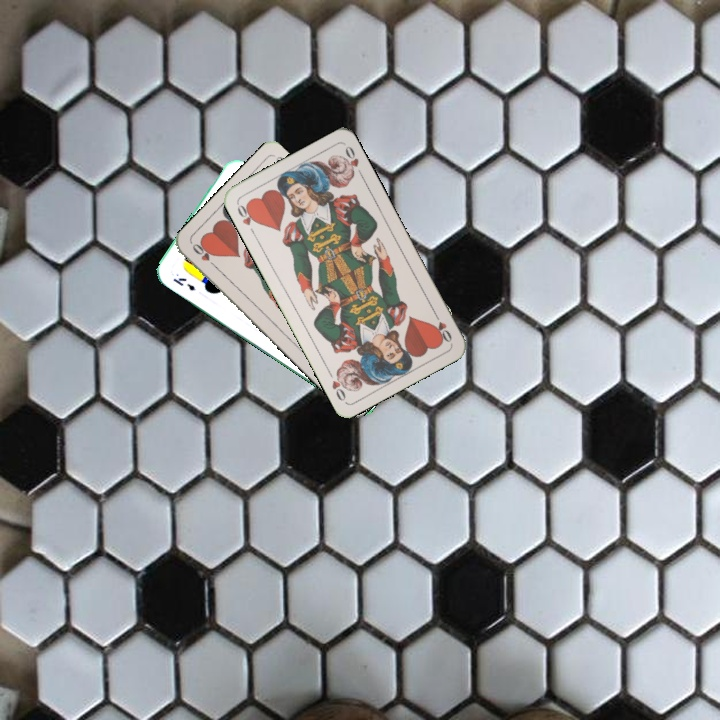EK: (169, 274, 198, 294)
HO: (188, 239, 220, 272), (233, 200, 259, 237), (430, 308, 454, 345)
